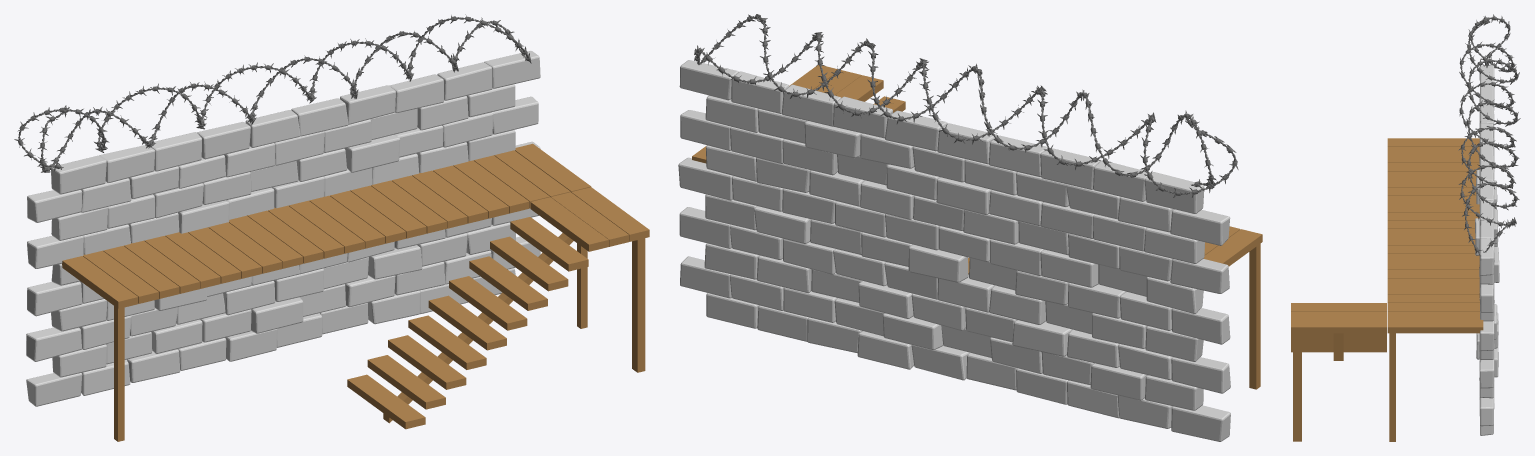
The model's file is brick wall.osa6.fbx.
3 views of the same model, side by side, from view 1: azimuth 30°, elevation 25°; view 2: azimuth 150°, elevation 25°; view 3: azimuth 270°, elevation 25° (orthographic). The views are drawn at different scales.
Visible parts, largest first — view 1: seinä, Cube, Cube.001, PII; view 2: seinä, PII, Cube, Cube.001; view 3: Cube, seinä, Cube.001, PII.
Boxes of the visible parts, x1,y1,x2,y2 form: seinä: [26, 51, 540, 406]; Cube: [62, 143, 591, 441]; Cube.001: [347, 187, 649, 429]; PII: [14, 14, 531, 172]; seinä: [678, 60, 1230, 441]; PII: [694, 14, 1238, 197]; Cube: [692, 145, 1262, 389]; Cube.001: [789, 65, 969, 274]; Cube: [1387, 138, 1483, 441]; seinä: [1475, 65, 1499, 435]; Cube.001: [1291, 303, 1386, 441]; PII: [1458, 14, 1520, 255].
Bounding box in the file's own units: 1200 × 694 × 573.
